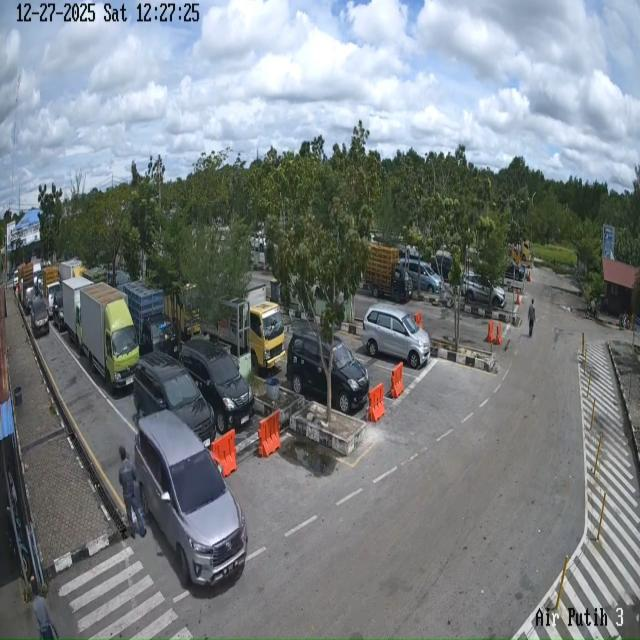Golongan IVA: (134, 410, 248, 586), (133, 351, 214, 447), (179, 339, 255, 434), (286, 329, 370, 414), (362, 305, 431, 369), (461, 272, 506, 308), (402, 258, 442, 294), (30, 296, 50, 337), (52, 291, 66, 332), (46, 281, 61, 319)
Golongan VB: (205, 285, 286, 370), (80, 282, 139, 390), (122, 282, 178, 358), (364, 243, 413, 303), (61, 276, 94, 347), (163, 284, 201, 341), (58, 258, 85, 282)
